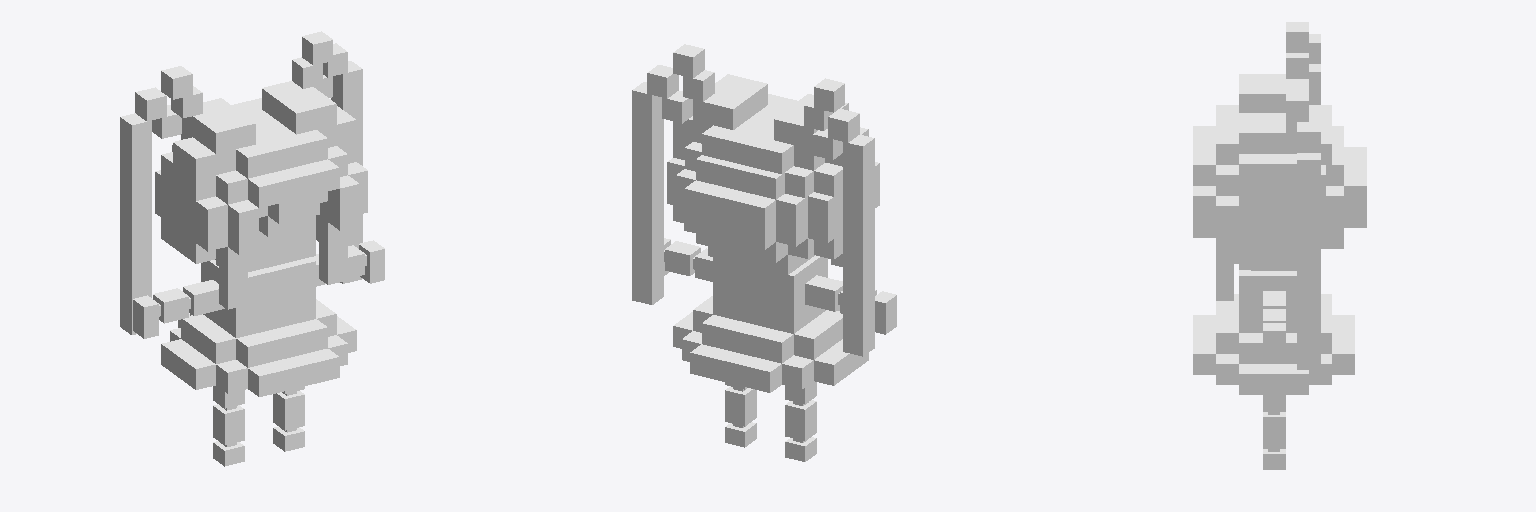
The model's file is Human_Girl.obj.
3 views of the same model, side by side, from view 1: azimuth 30°, elevation 25°; view 2: azimuth 150°, elevation 25°; view 3: azimuth 270°, elevation 25° (orthographic).
Parts seen in each view (by area): view 1: Human_Girl; view 2: Human_Girl; view 3: Human_Girl.
Part boxes in pixels (x1,y1,x2,y2): Human_Girl: (120, 31, 384, 466); Human_Girl: (632, 44, 896, 461); Human_Girl: (1193, 22, 1366, 469).
Size of the model in its own units: 48 by 74 by 30.